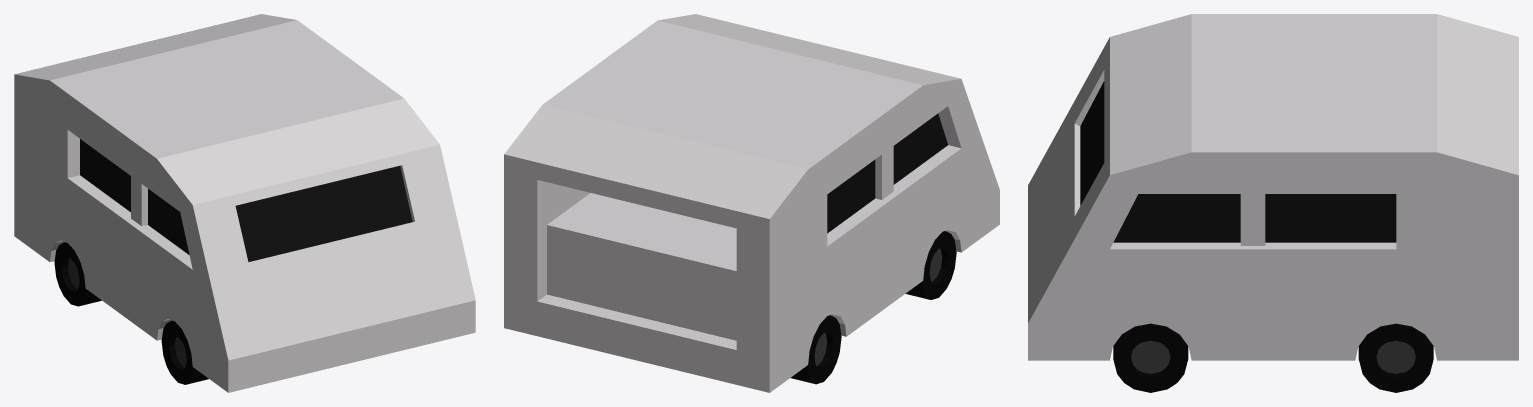
File: mobil 1.fbx
The picture shows the model from 3 angles, left to right: view 1: azimuth 30°, elevation 25°; view 2: azimuth 150°, elevation 25°; view 3: azimuth 270°, elevation 25°; orthographic projection. The views are drawn at different scales.
Parts seen in each view (by area): view 1: fix.005; view 2: fix.005; view 3: fix.005.
Part boxes in pixels (x1,y1,x2,y2): fix.005: (14, 14, 475, 392); fix.005: (504, 14, 999, 392); fix.005: (1028, 14, 1518, 392).
Bounding box in the file's own units: 400 × 600 × 327.
Materials: 2 (1 with a texture image).
